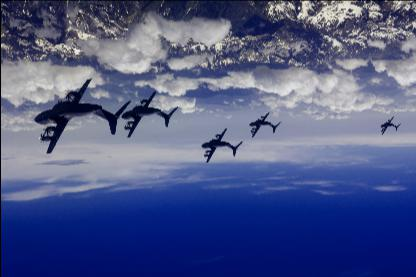A400M: (35, 78, 132, 153), (121, 91, 179, 137), (201, 128, 243, 161), (249, 111, 281, 136), (380, 116, 400, 134)
